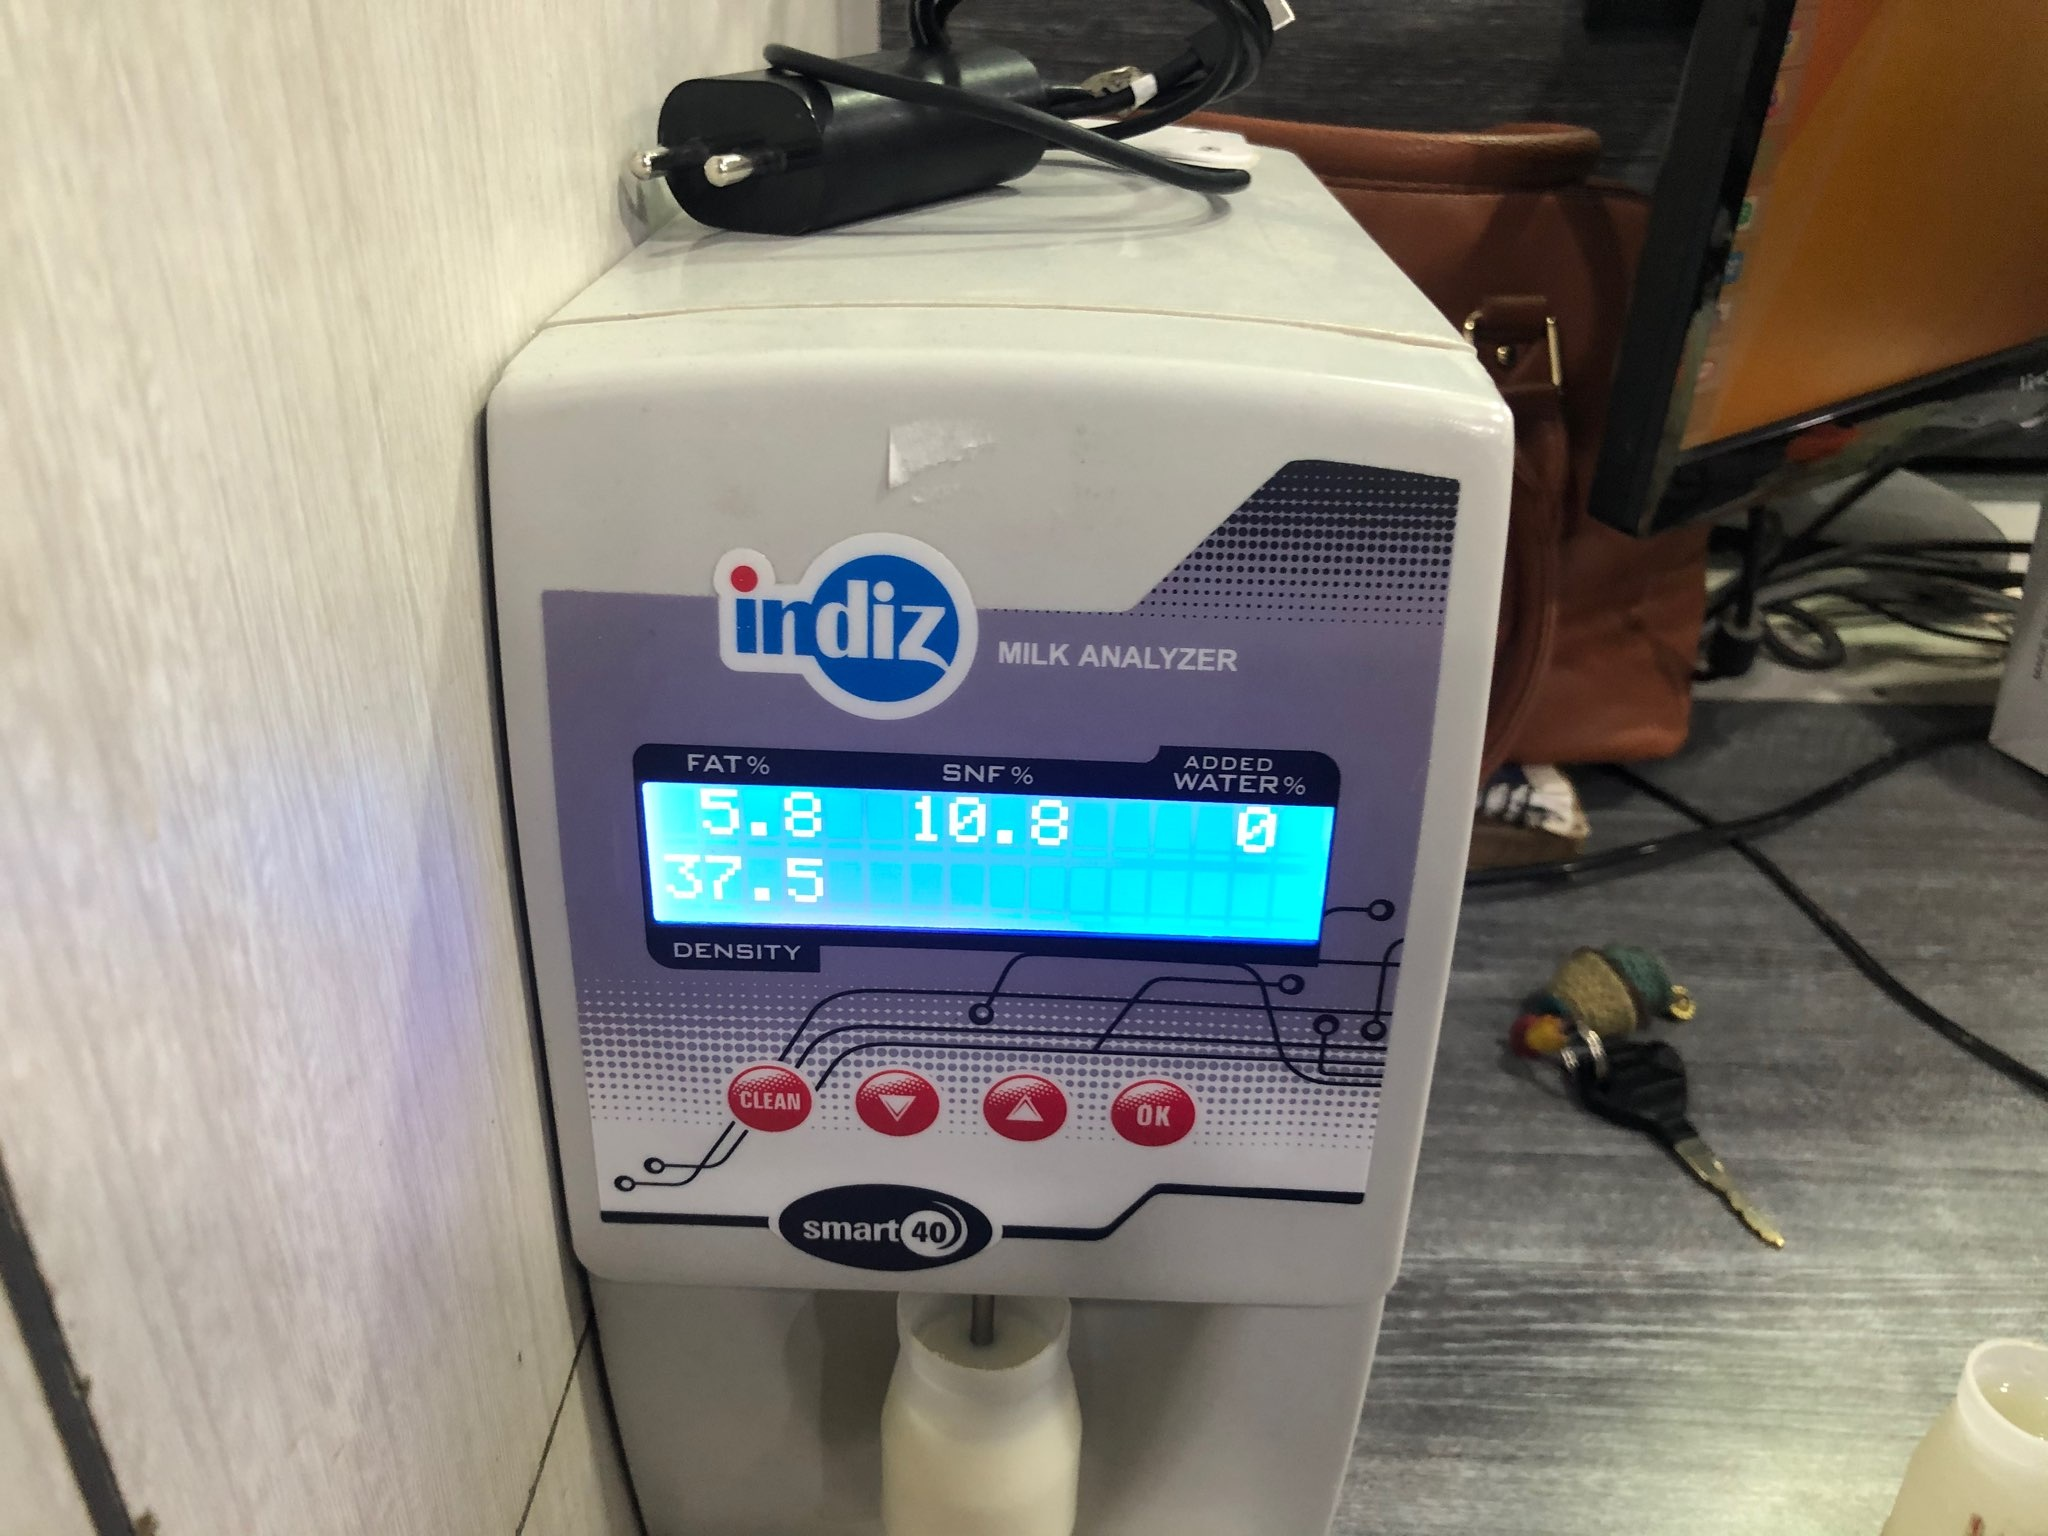lcd: (622, 720, 1347, 1005)
